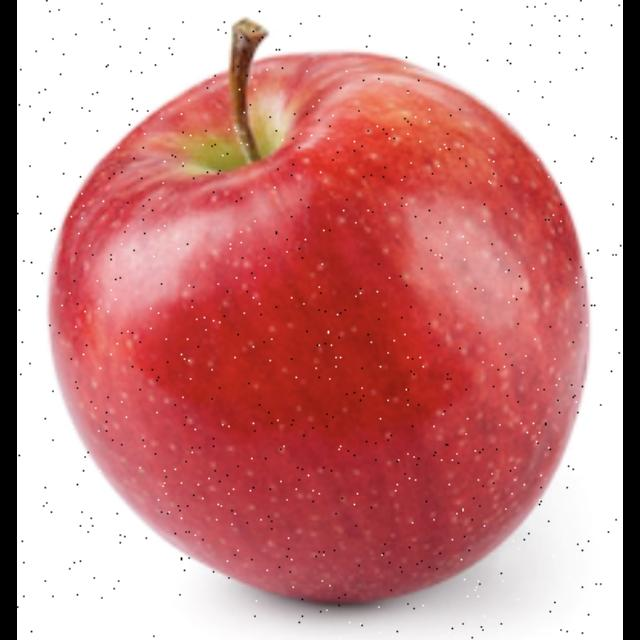Apel Segar: (56, 56, 586, 600)
